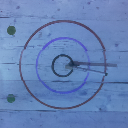Axe Tip: (69, 64, 80, 66)
